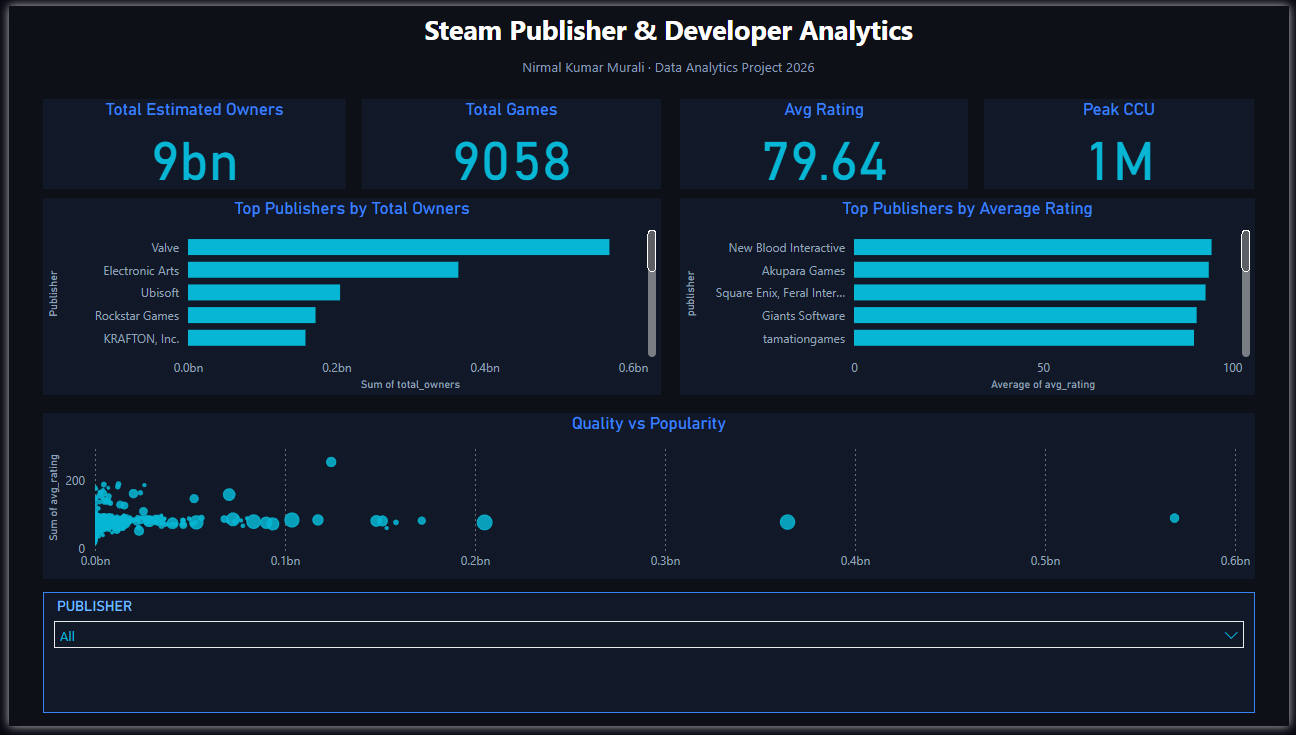

The dashboard page shown, as its layout file describes it:
{"tool":"powerbi","page":{"name":"Page 1","canvas":[1280,720],"ordinal":0},"visuals":[{"type":"clusteredBarChart","title":"Top Publishers by Total Owners","fields":{"Category":["publisher_stats.publisher"],"Y":["Sum(publisher_stats.total_owners)"]},"box":[34,192,618,197],"z":0},{"type":"clusteredBarChart","title":"Top Publishers by Average Rating","fields":{"Category":["publisher_stats.publisher"],"Y":["Avg(publisher_stats.avg_rating)"]},"box":[671,192,575,197],"z":1000},{"type":"scatterChart","title":"Quality vs Popularity","fields":{"X":["Sum(publisher_stats.total_owners)"],"Y":["Sum(publisher_stats.avg_rating)"],"Category":["publisher_stats.publisher"],"Size":["Sum(publisher_stats.game_count)"]},"box":[34.3,407.1,1211.4,165.7],"z":2000},{"type":"card","title":"Total Estimated Owners","fields":{"Values":["Sum(publisher_stats.total_owners)"]},"box":[34,93,303,90],"z":3000},{"type":"card","title":"Total Games","fields":{"Values":["Sum(publisher_stats.game_count)"]},"box":[353,93,299,90],"z":4000},{"type":"card","title":"Avg Rating","fields":{"Values":["Avg(publisher_stats.avg_rating)"]},"box":[671,93,288,90],"z":4001},{"type":"card","title":"Peak CCU","fields":{"Values":["Max(publisher_stats.peak_ccu)"]},"box":[975,93,270,90],"z":4002},{"type":"textbox","box":[360,0,599,47],"z":4003},{"type":"slicer","fields":{"Values":["publisher_stats.publisher"]},"box":[34.3,585.7,1211.4,121.4],"z":4004},{"type":"textbox","box":[360,47,599,46],"z":4005}]}

Visuals, with their boxes in screenshot pixels (x1, y1, x2, y2), scaled from the page's 1280x720 canvas onto the 1296x735 screenshot:
"Top Publishers by Total Owners" clusteredBarChart: (34, 196, 660, 397)
"Top Publishers by Average Rating" clusteredBarChart: (679, 196, 1262, 397)
"Quality vs Popularity" scatterChart: (35, 416, 1261, 585)
"Total Estimated Owners" card: (34, 95, 341, 187)
"Total Games" card: (357, 95, 660, 187)
"Avg Rating" card: (679, 95, 971, 187)
"Peak CCU" card: (987, 95, 1261, 187)
textbox: (364, 0, 971, 48)
slicer - publisher_stats.publisher: (35, 598, 1261, 722)
textbox: (364, 48, 971, 95)
